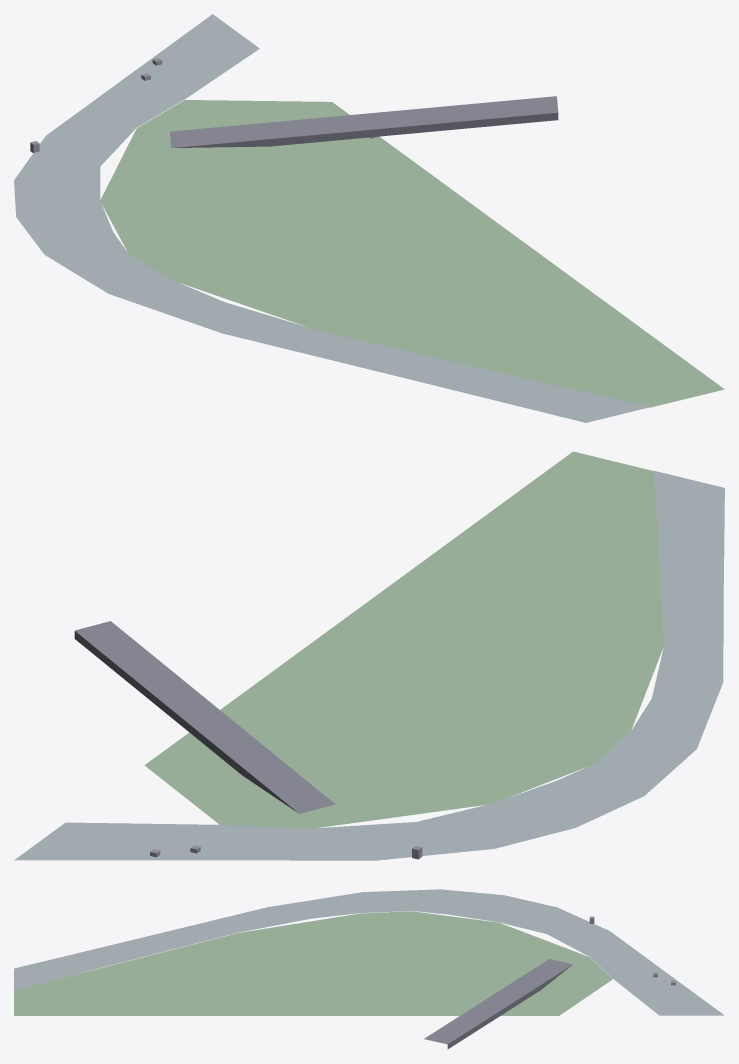
3 views of the same model, one above another, from view 1: azimuth 30°, elevation 25°; view 2: azimuth 150°, elevation 25°; view 3: azimuth 270°, elevation 25° (orthographic). The views are drawn at different scales.
Size of the model in its own units: 137 by 9.42 by 236.
